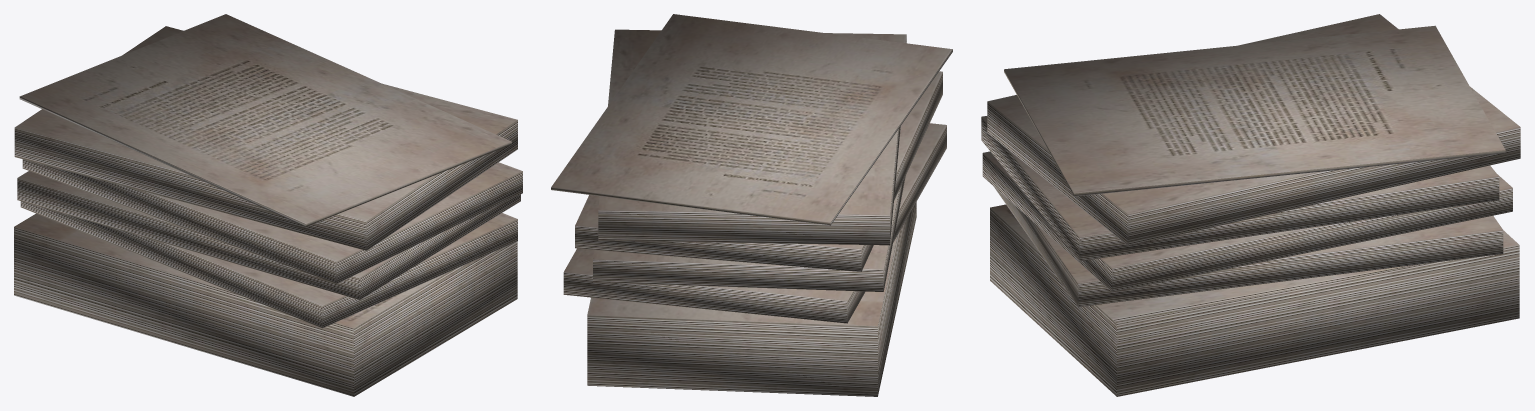
File: office_papers.obj
The picture shows the model from 3 angles, left to right: view 1: azimuth 30°, elevation 25°; view 2: azimuth 150°, elevation 25°; view 3: azimuth 270°, elevation 25°; orthographic projection. The views are drawn at different scales.
Visible parts, largest first — view 1: polySurface1_polySurfaceShape3; view 2: polySurface1_polySurfaceShape3; view 3: polySurface1_polySurfaceShape3.
Boxes of the visible parts, x1,y1,x2,y2 form: polySurface1_polySurfaceShape3: (14, 14, 522, 396); polySurface1_polySurfaceShape3: (551, 14, 952, 396); polySurface1_polySurfaceShape3: (981, 14, 1520, 396).
Size of the model in its own units: 11.24 by 4.97 by 12.78.
1 material, 1 textured.
